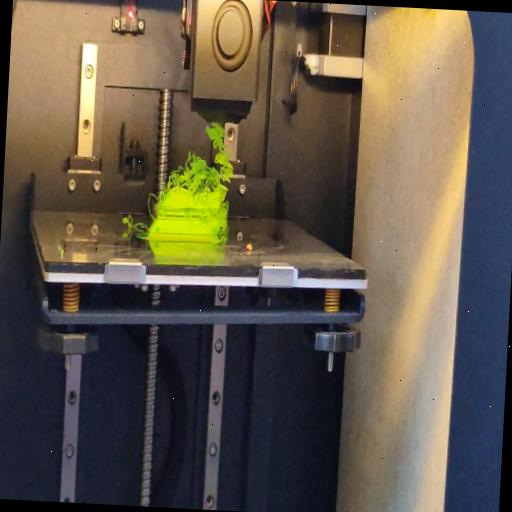spaghetti: (166, 118, 234, 194), (119, 216, 146, 230), (146, 190, 157, 222), (217, 233, 228, 247)
